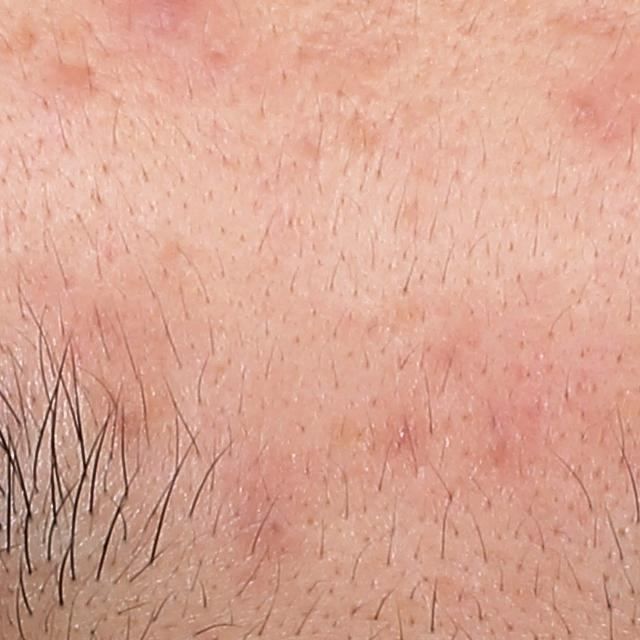atrophic_scar: (41, 59, 97, 96)
